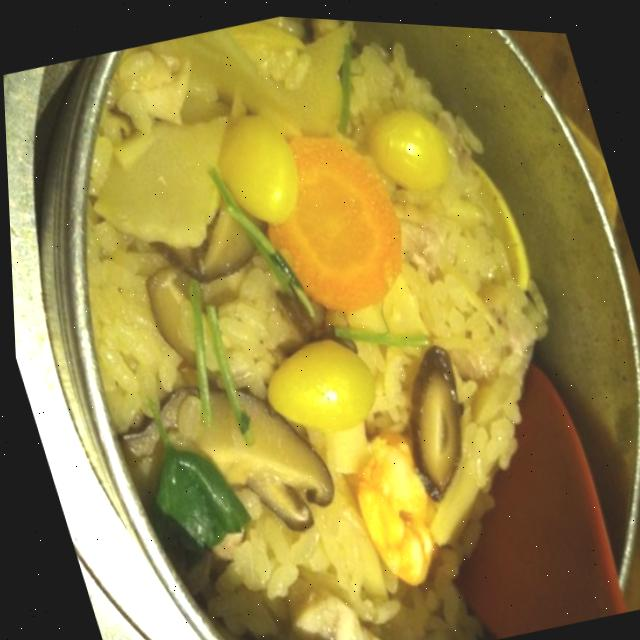猪肉菜式: (36, 196, 541, 640)
